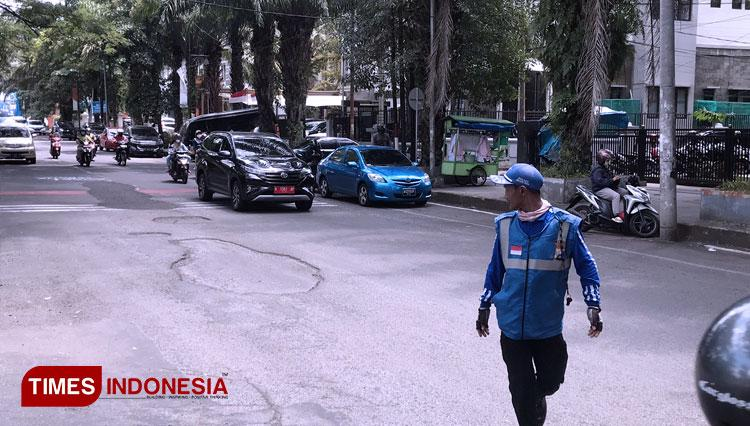Pothole: (123, 204, 365, 326)
